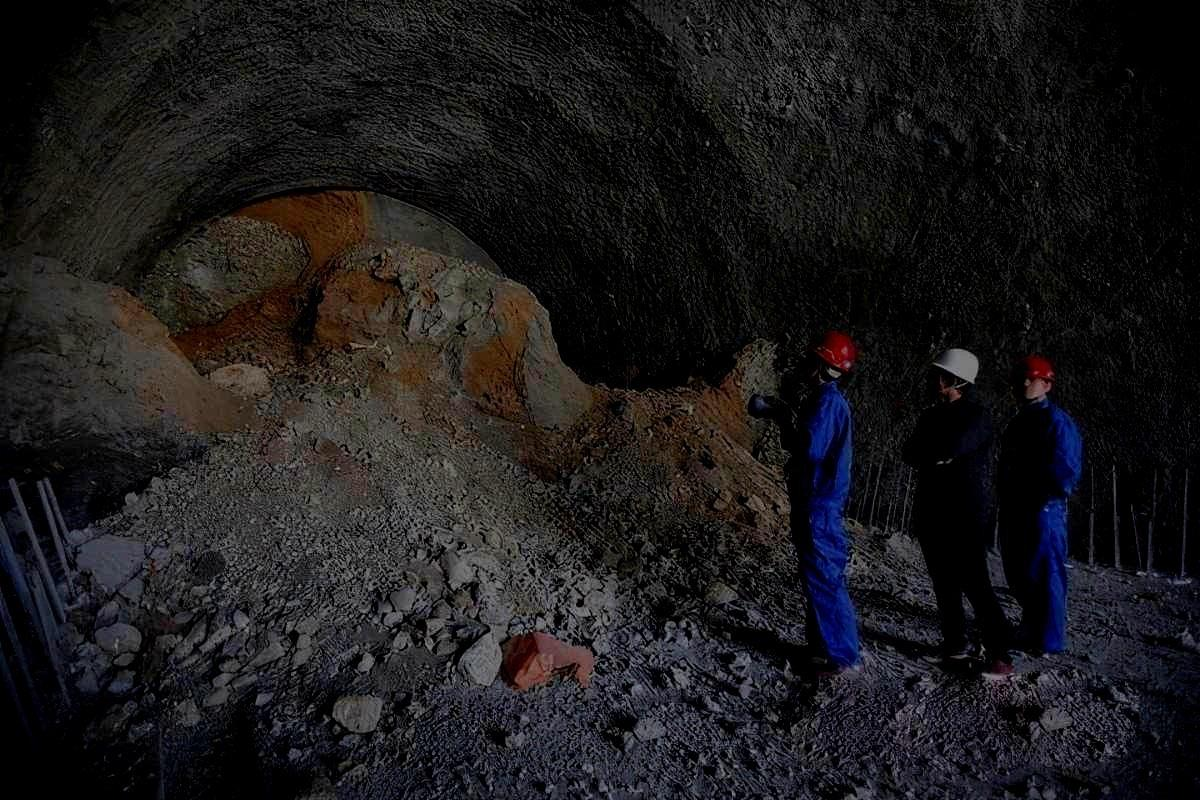helmet: (809, 329, 856, 386), (932, 348, 979, 395), (1016, 355, 1055, 400)
